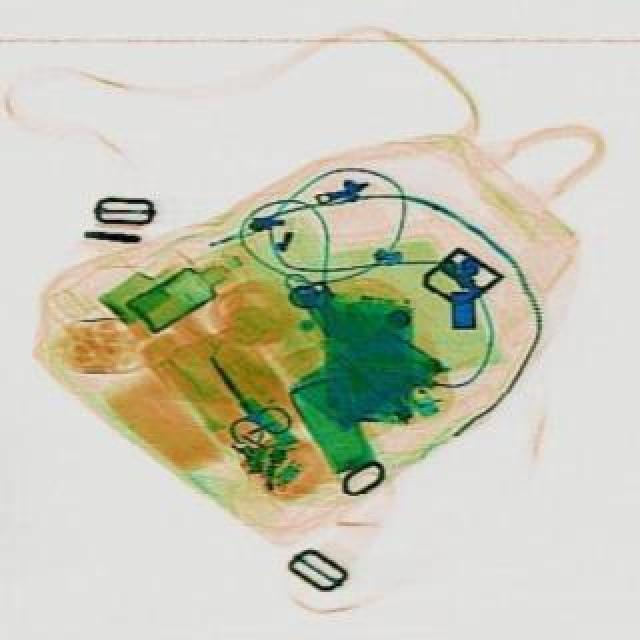pliers: (180, 340, 290, 452)
